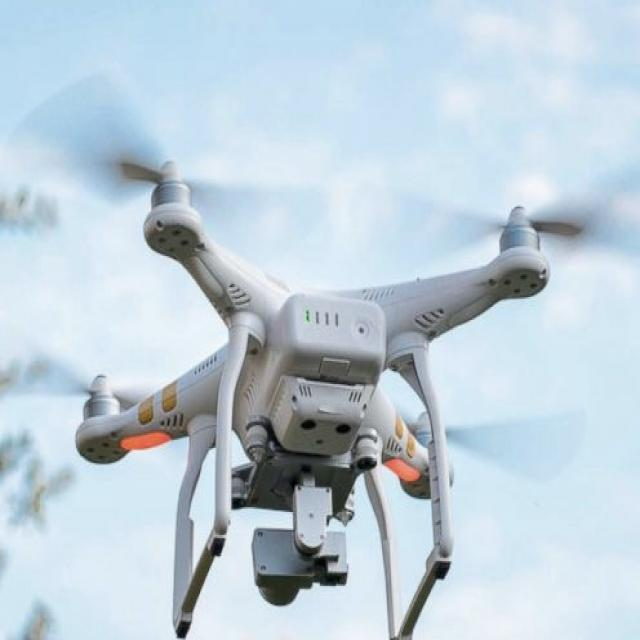drone: (47, 116, 629, 606)
